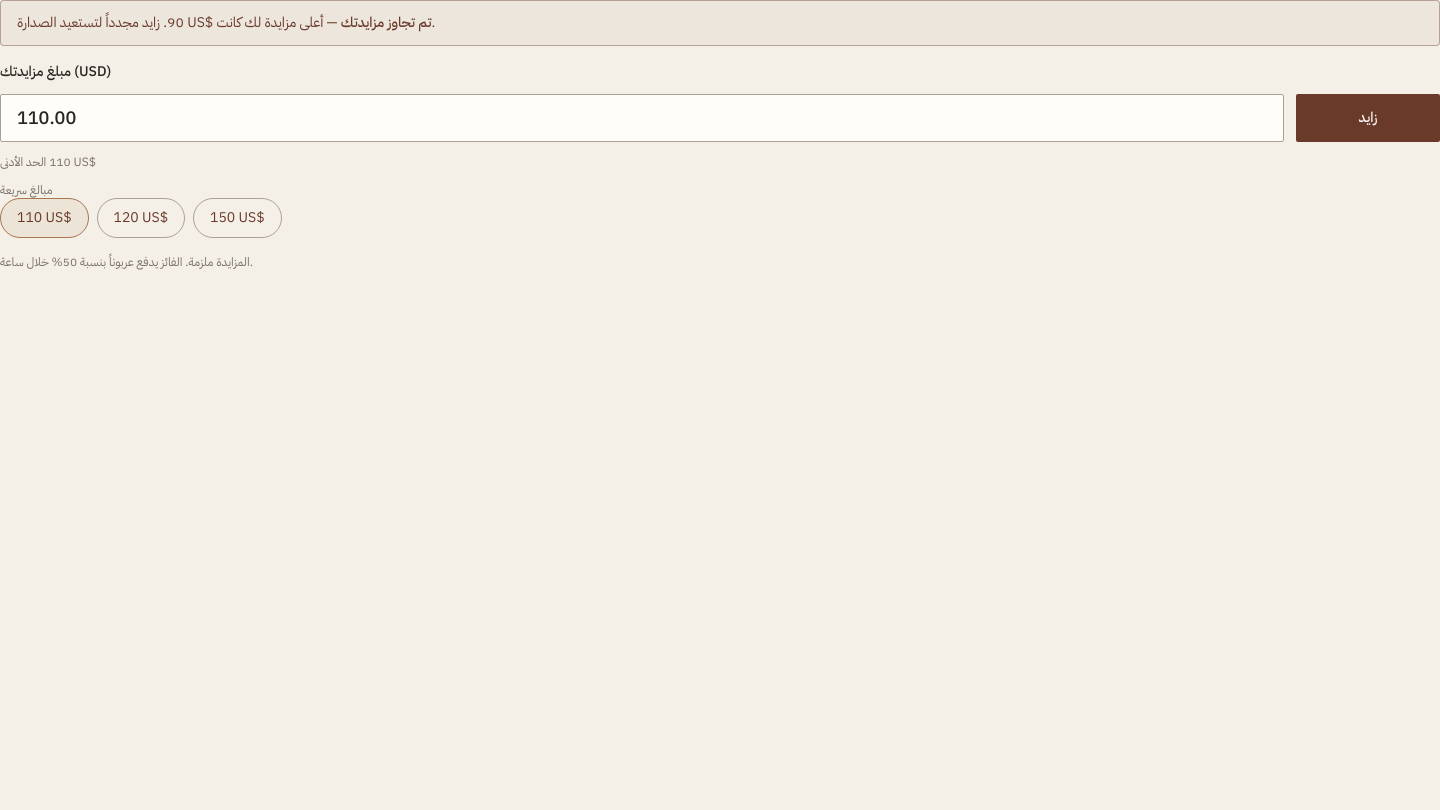
Test: BidPanel › explains a lost race in plain language and moves the field to the new minimum
Click the button "زايد".
click(1368, 118)  # box [1296, 94, 1439, 142]
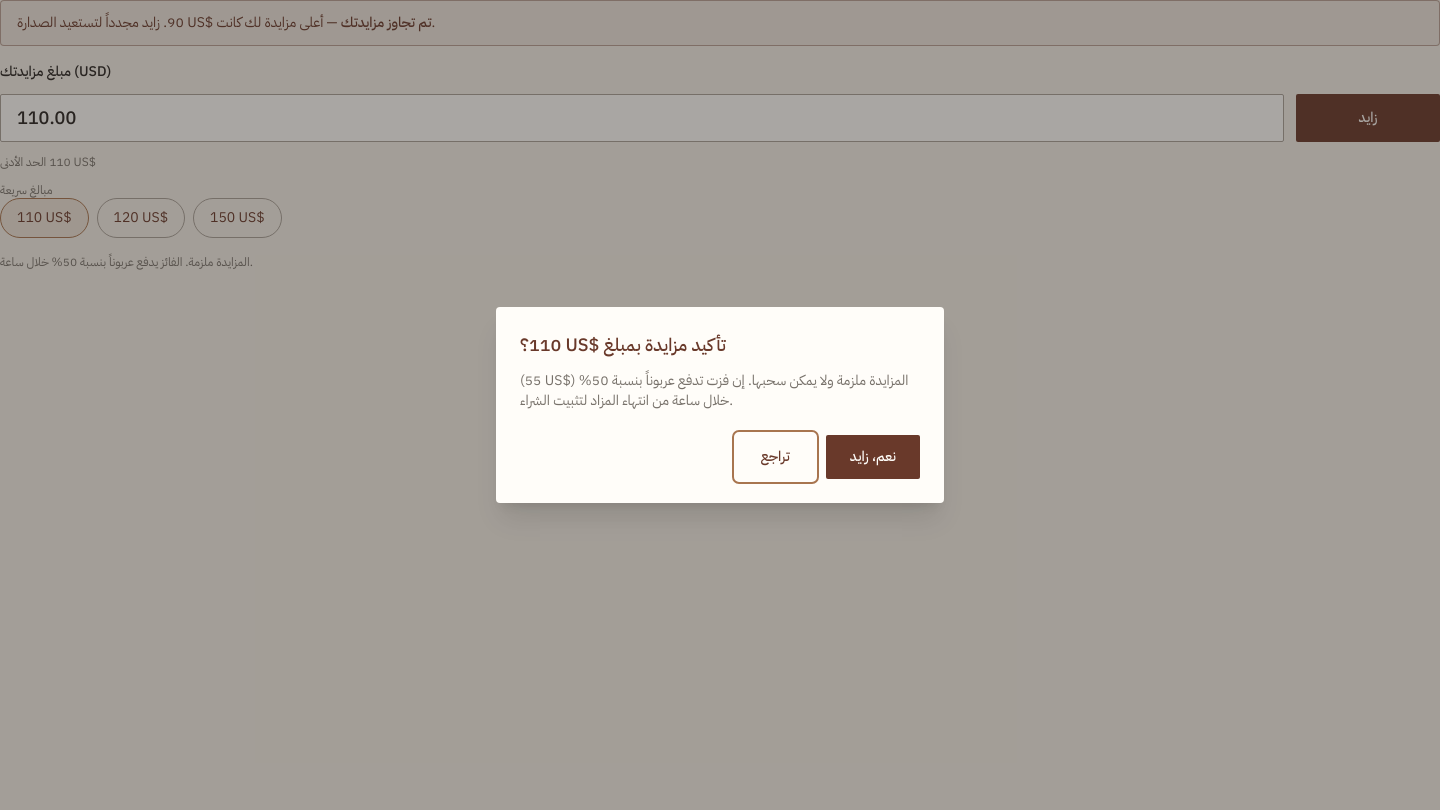
Click the button "نعم، زايد".
click(873, 457)  # box [826, 435, 920, 479]
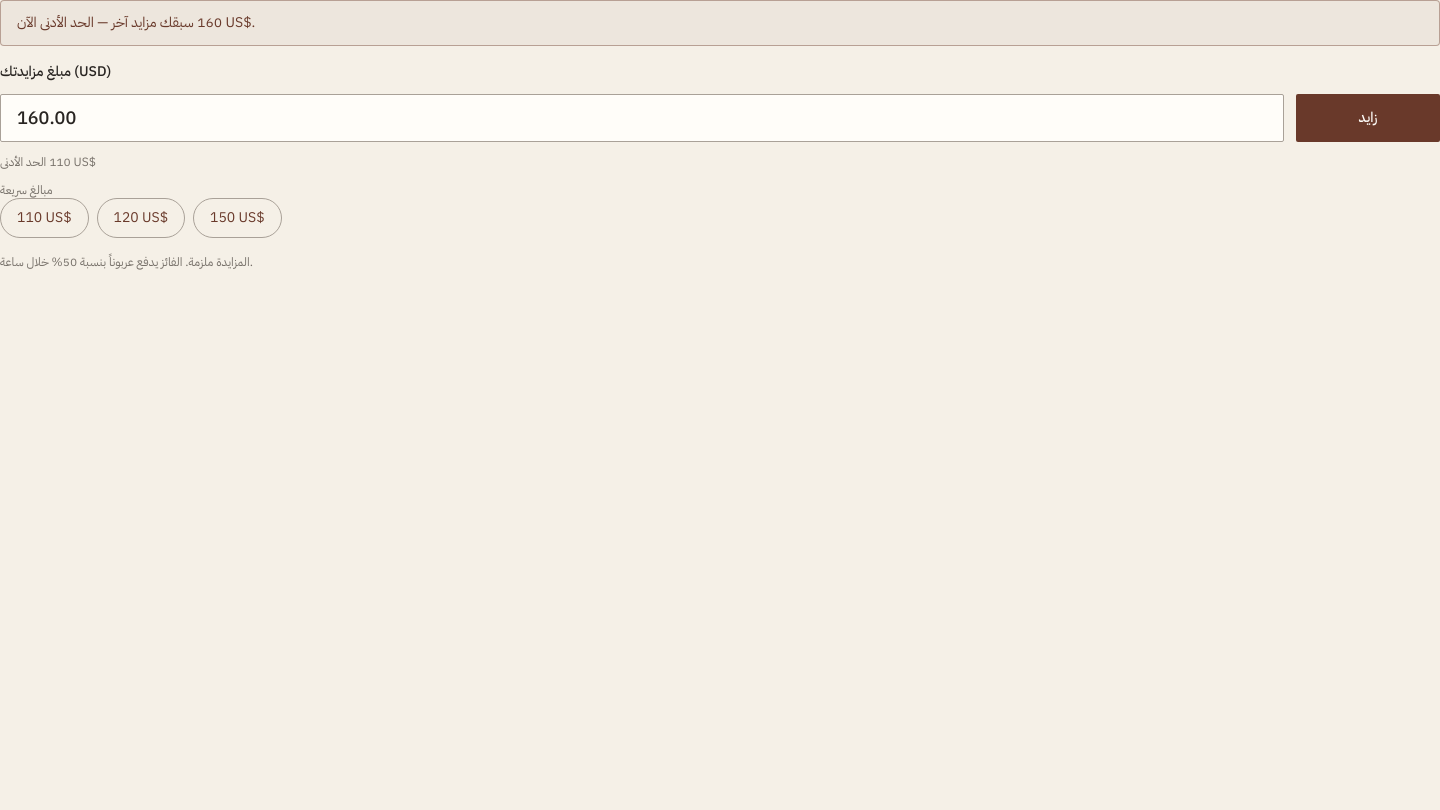
Expected: the text "سبقك مزايد آخر — الحد الأدنى الآن 160 US$ ." is shown, [17, 12, 255, 33]
Expected: the field labelled "مبلغ مزايدتك (USD)" holds "160.00", [0, 94, 1284, 142]
